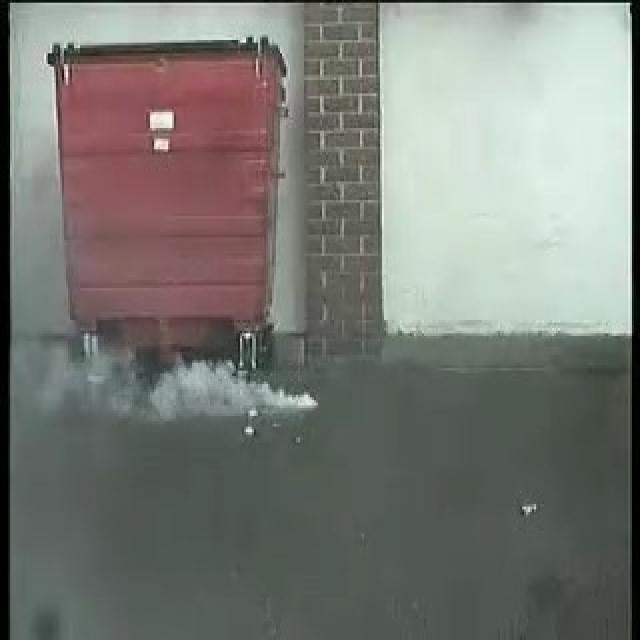smoke: (84, 346, 315, 418)
